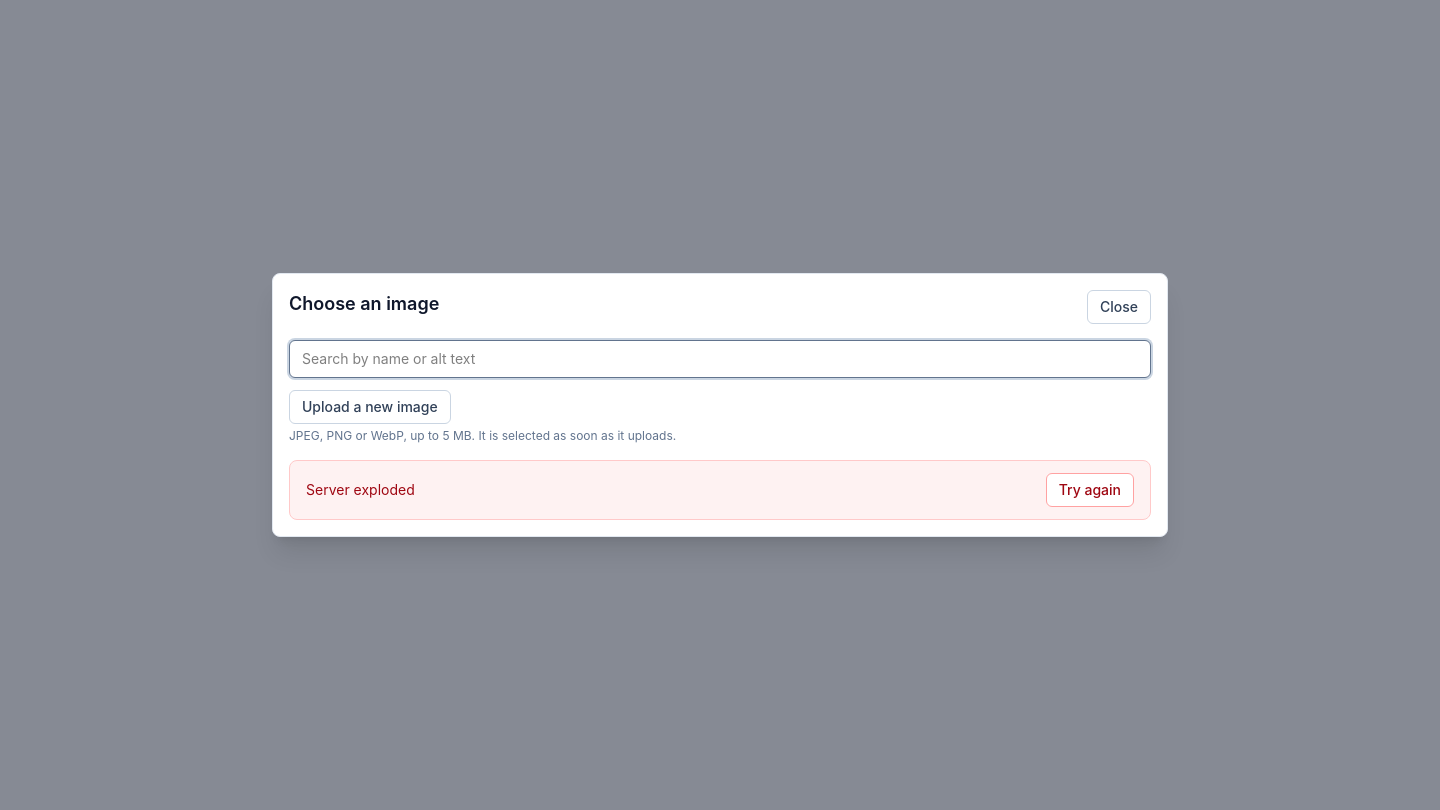
Test: ImagePicker › shows an error and reloads when Try again is clicked
Expected: the message "Server exploded Try again" is shown, [289,460,1151,520]
Click the button with test id "retry" at (1090, 490), box [1046,473,1134,507]
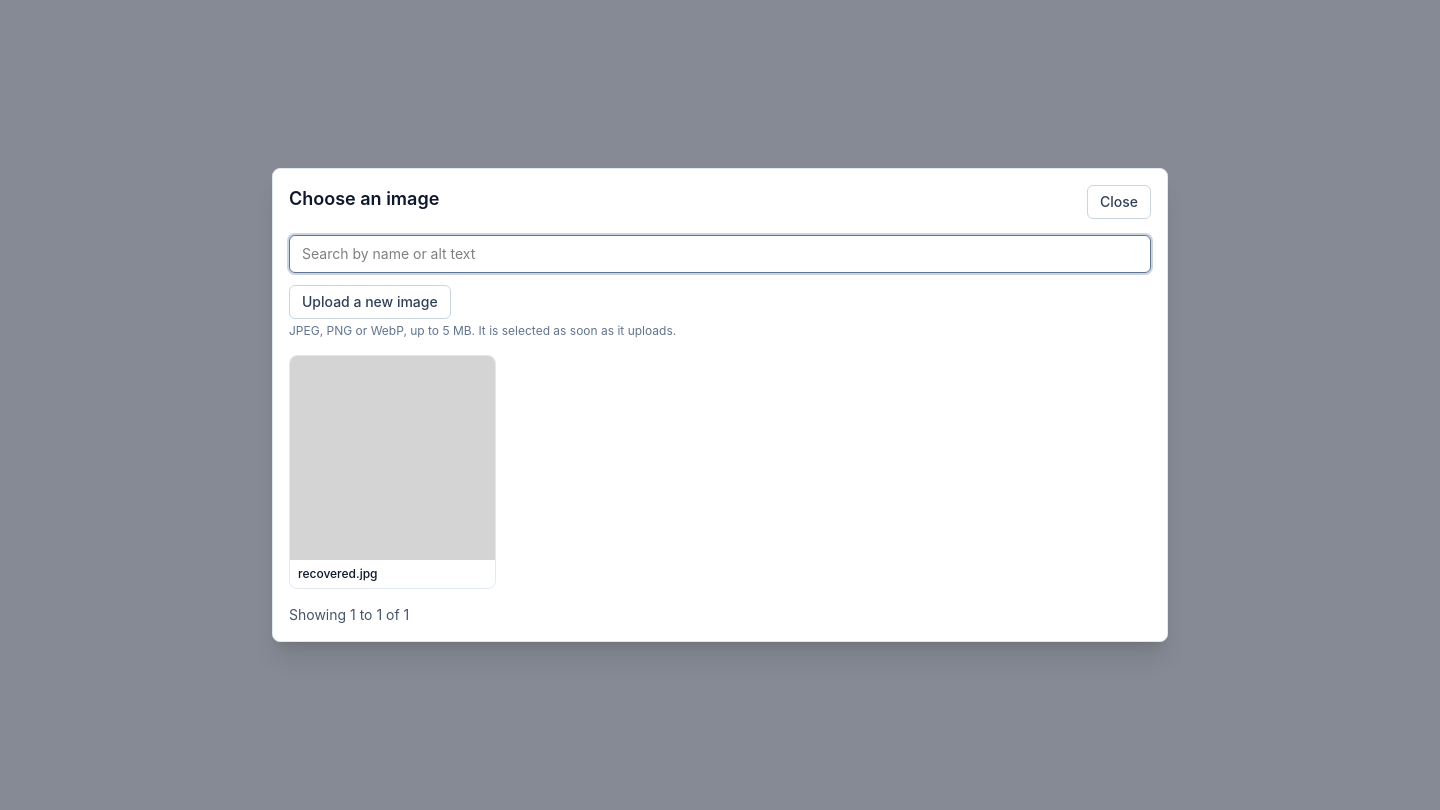
Expected: the text "recovered.jpg" is shown, [298,566,378,581]
